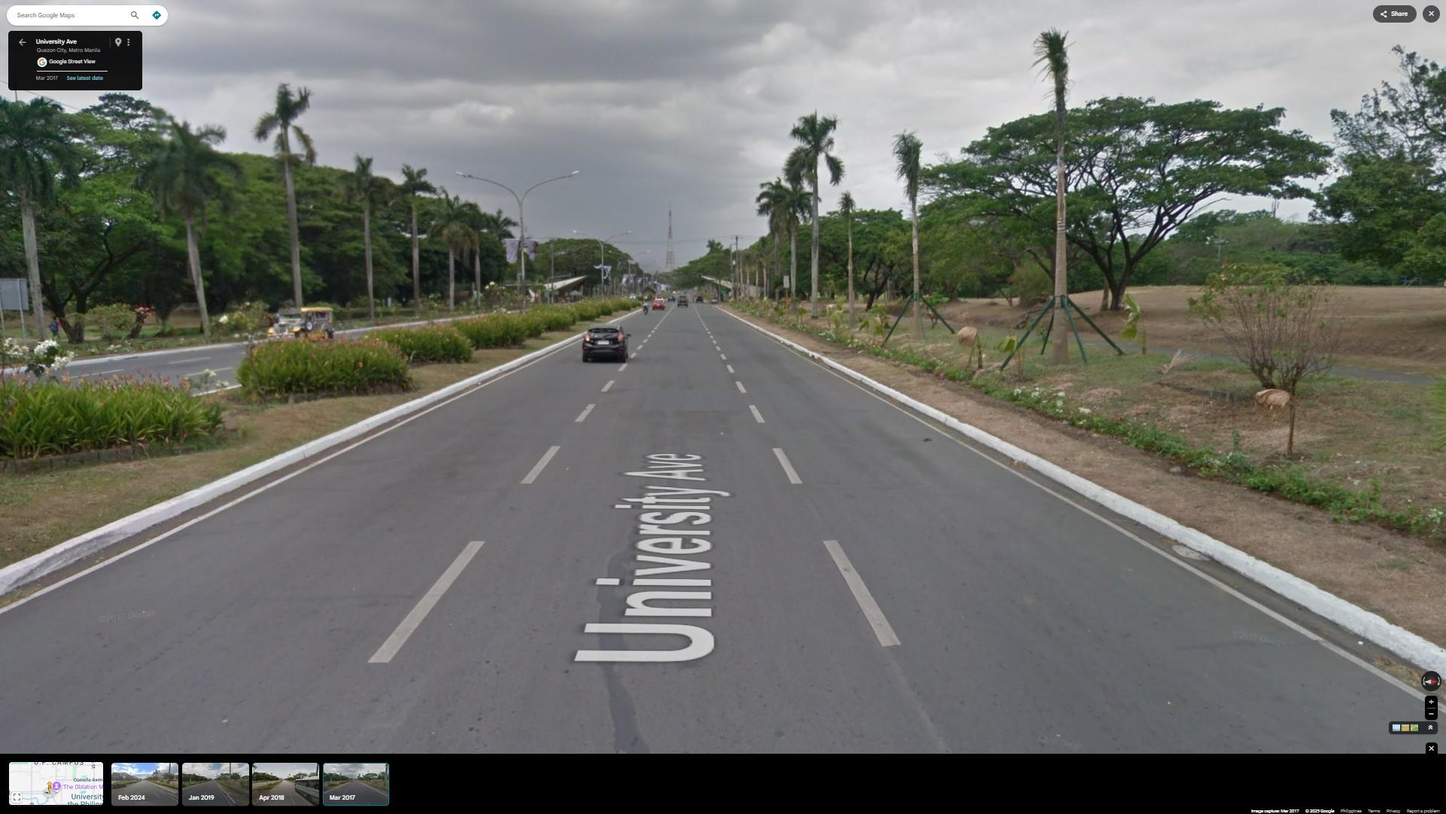pedestrian: (46, 313, 62, 346), (692, 294, 694, 302)
